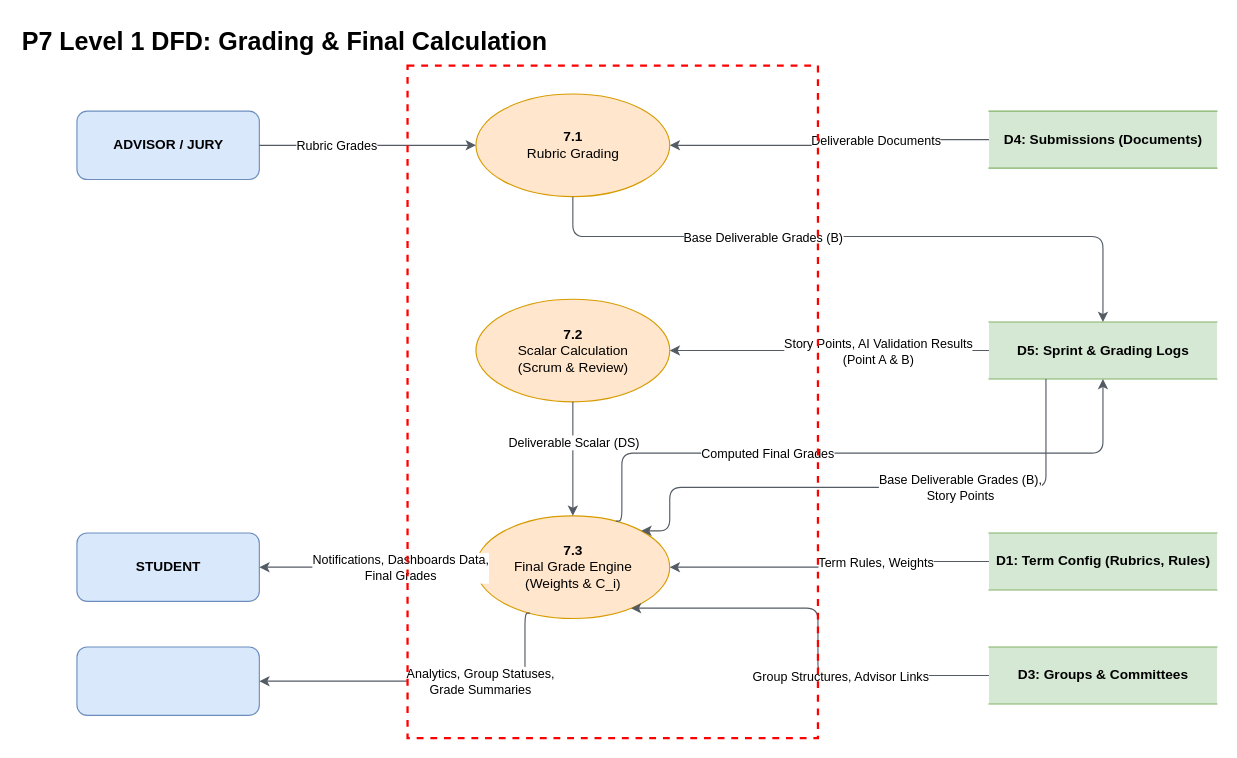
This 1237x758 diagram has some shape labels left out. The shapes that lost their labels are listed below. From the top down, each one's box as (x1, y1, x2, y2) in pixels, then its label:
(406, 64, 819, 739): System Boundary
(76, 646, 259, 715): COORDINATOR
